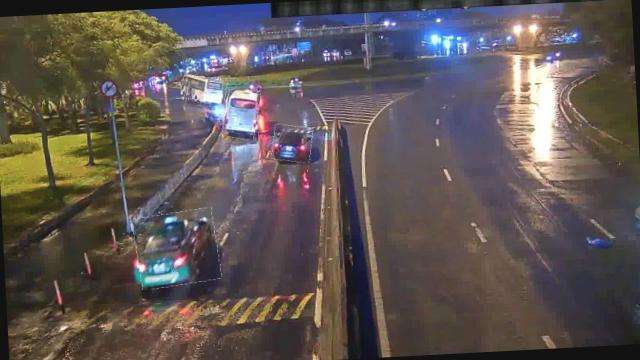Bus: (220, 88, 260, 140), (180, 74, 227, 102)
Car: (132, 208, 220, 288), (270, 124, 314, 164)
